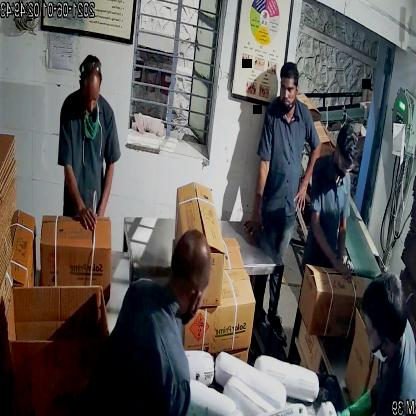goggles: (334, 154, 356, 177)
no_goggles: (275, 77, 300, 100), (79, 89, 104, 110)
